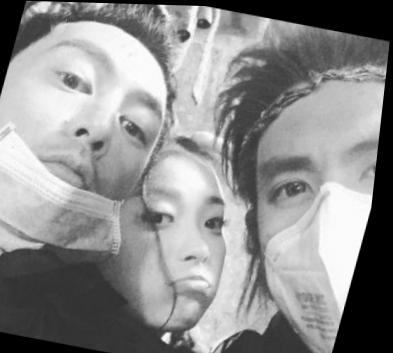NONE: (104, 181, 249, 336)
OK: (211, 73, 388, 353)
WRONG: (1, 29, 185, 253)
